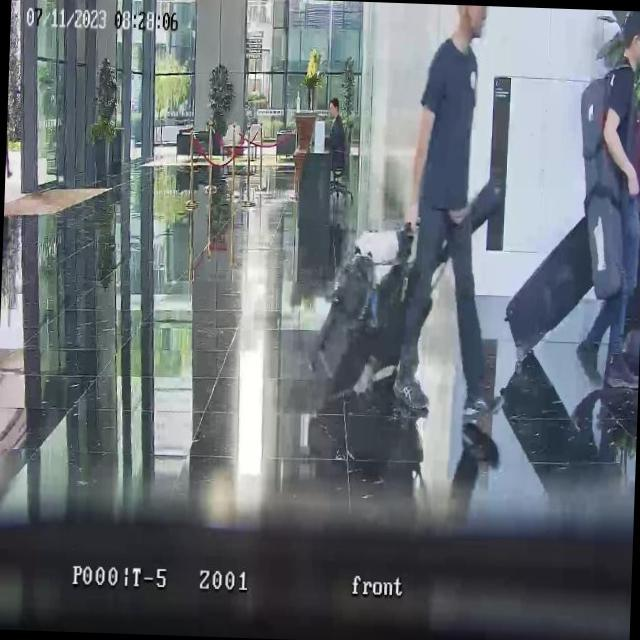person: (391, 4, 507, 421), (570, 9, 640, 393), (325, 96, 348, 181), (5, 106, 18, 179)
